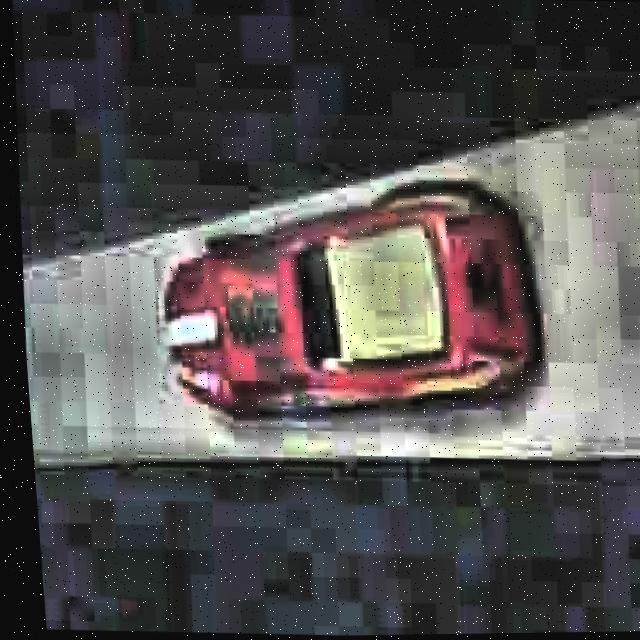car: (141, 168, 558, 435)
